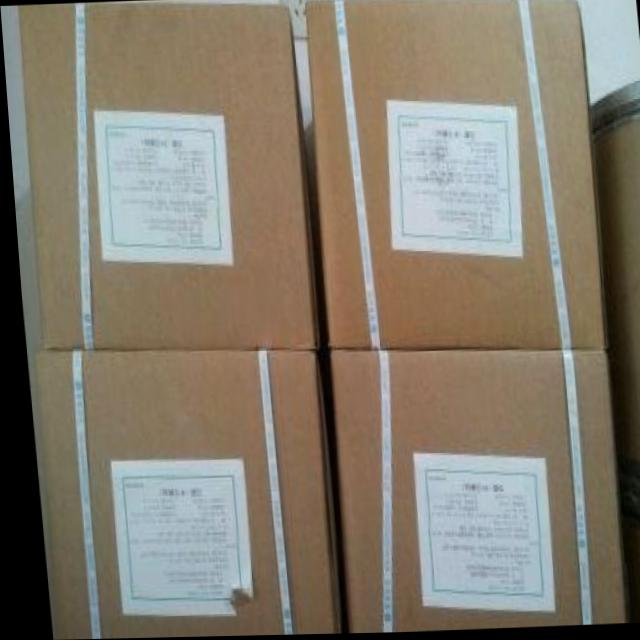box: (305, 5, 602, 354), (18, 6, 313, 351), (33, 352, 331, 640), (324, 351, 615, 632)
